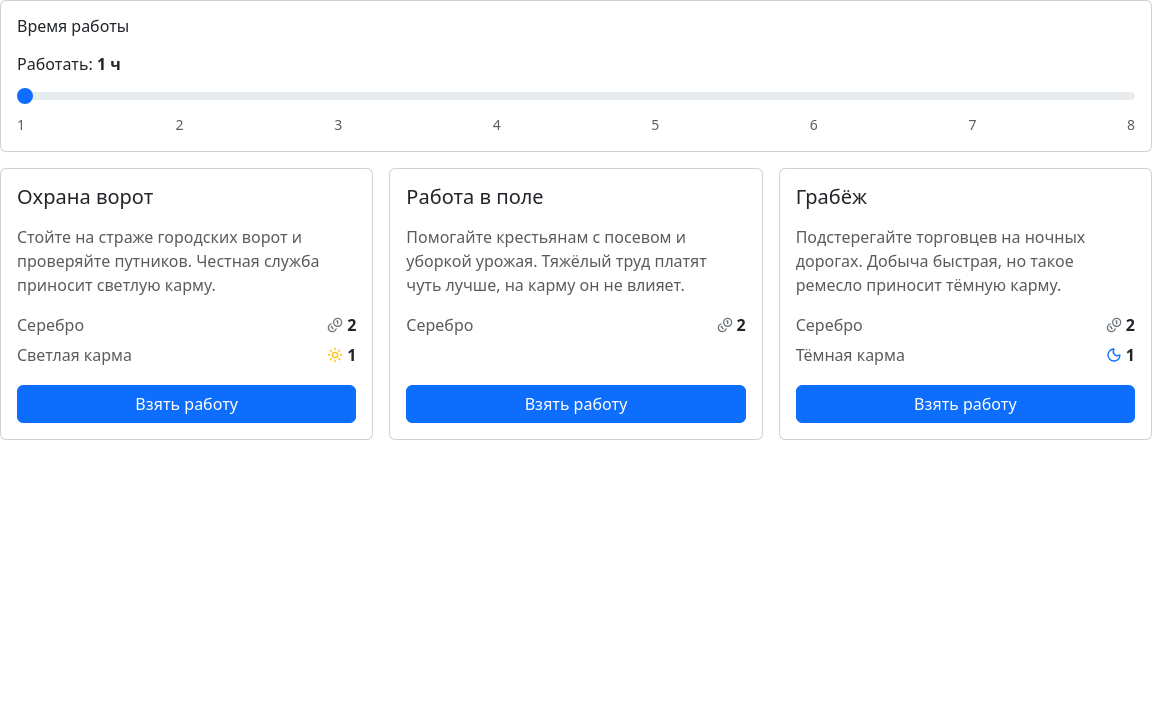
WorkPage › другая ошибка показывается на странице
This screenshot has width=1152, height=720.
Expected: the element "Охрана ворот" is shown, [0,168,373,440]
Click the button "Взять работу" below "Светлая карма". click: (187, 404)
box: [17,385,356,423]
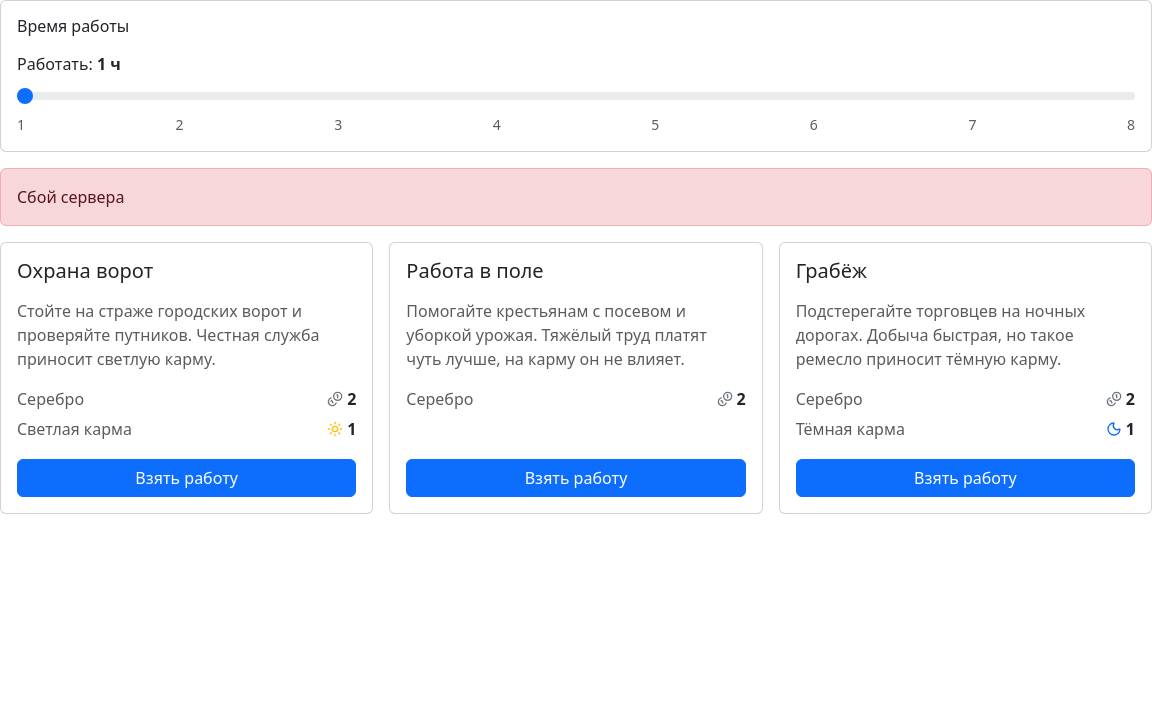
Now the message reads "Сбой сервера", box [17,186,124,208]
